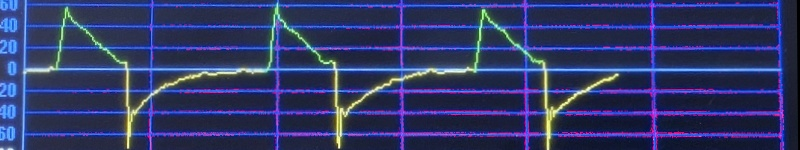normal_flow: (22, 1, 629, 150)
